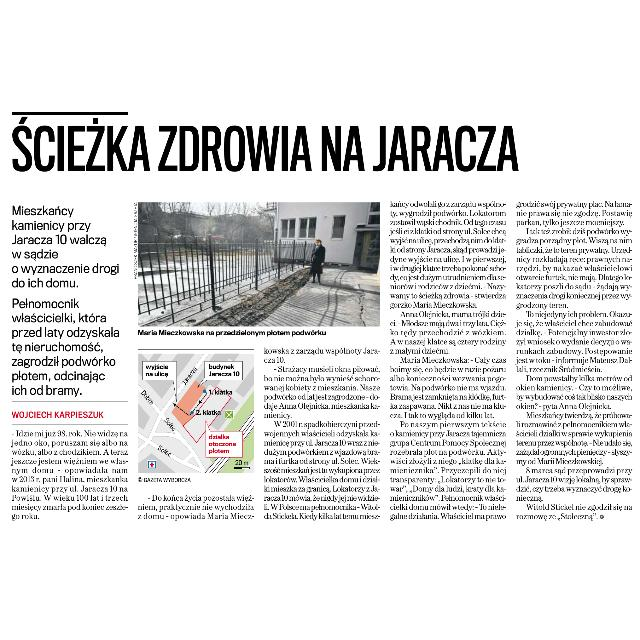author: (8, 408, 108, 420)
body: (513, 196, 637, 522), (386, 197, 510, 521), (261, 343, 384, 522), (7, 427, 131, 523), (135, 490, 259, 522)
caption: (135, 326, 331, 339)
image: (134, 198, 382, 328), (136, 350, 256, 474)
lead: (7, 202, 128, 398)
title: (7, 114, 525, 180)
